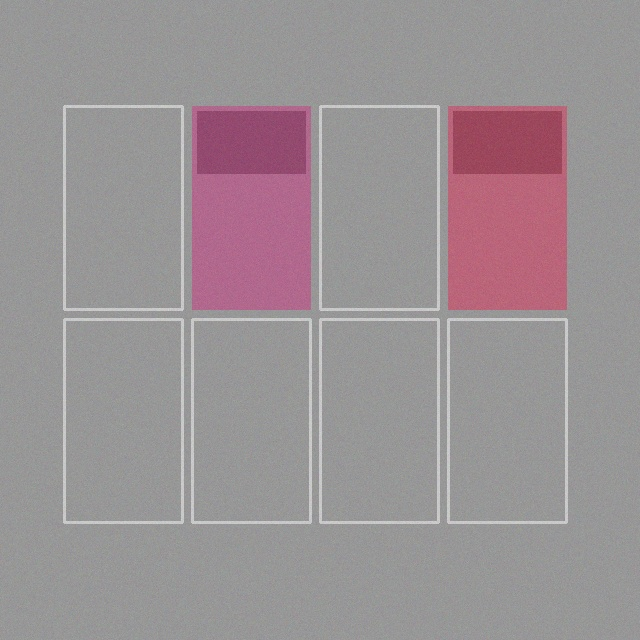space-empty: (64, 106, 182, 309), (320, 106, 438, 309), (64, 319, 182, 522), (192, 319, 310, 522), (320, 319, 438, 522), (448, 319, 566, 522)
space-occupied: (192, 106, 310, 309), (448, 106, 566, 309)
